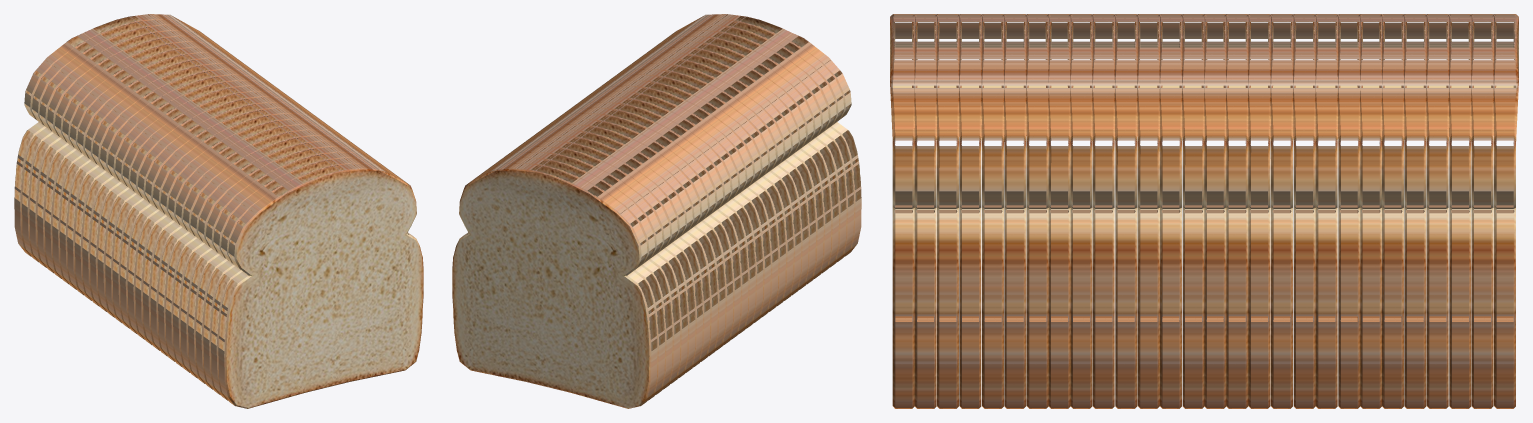
The model's file is loaf.fbx.
3 renders of one model, left to right at view 1: azimuth 30°, elevation 25°; view 2: azimuth 150°, elevation 25°; view 3: azimuth 270°, elevation 25°, orthographic. The views are drawn at different scales.
Visible parts, largest first — view 1: breadSlice24, breadSlice25, breadSlice6, breadSlice18, breadSlice13, breadSlice1, breadSlice16, breadSlice14, breadSlice7, breadSlice10, breadSlice17, breadSlice27 (+16 smaller); view 2: breadSlice1, breadSlice24, breadSlice8, breadSlice15, breadSlice28, breadSlice7, breadSlice14, breadSlice16, breadSlice4, breadSlice19, breadSlice20, breadSlice21 (+16 smaller); view 3: breadSlice24, breadSlice16, breadSlice18, breadSlice21, breadSlice3, breadSlice12, breadSlice23, breadSlice2, breadSlice4, breadSlice15, breadSlice9, breadSlice22 (+16 smaller).
Part boxes in pixels (x1=…): breadSlice24: x1=218, y1=163, x2=423, y2=408; breadSlice25: x1=211, y1=158, x2=408, y2=400; breadSlice6: x1=52, y1=42, x2=243, y2=284; breadSlice18: x1=158, y1=119, x2=349, y2=361; breadSlice13: x1=105, y1=80, x2=295, y2=322; breadSlice1: x1=14, y1=14, x2=205, y2=256; breadSlice16: x1=165, y1=124, x2=357, y2=367; breadSlice14: x1=112, y1=86, x2=303, y2=328; breadSlice7: x1=59, y1=47, x2=250, y2=289; breadSlice10: x1=82, y1=64, x2=274, y2=306; breadSlice17: x1=188, y1=141, x2=380, y2=383; breadSlice27: x1=135, y1=102, x2=326, y2=345; breadSlice1: x1=452, y1=163, x2=657, y2=408; breadSlice24: x1=670, y1=14, x2=861, y2=256; breadSlice8: x1=518, y1=124, x2=710, y2=367; breadSlice15: x1=572, y1=86, x2=763, y2=328; breadSlice28: x1=625, y1=47, x2=816, y2=289; breadSlice7: x1=511, y1=130, x2=702, y2=372; breadSlice14: x1=565, y1=91, x2=755, y2=333; breadSlice16: x1=617, y1=52, x2=808, y2=295; breadSlice4: x1=488, y1=146, x2=680, y2=389; breadSlice19: x1=632, y1=41, x2=823, y2=284; breadSlice20: x1=655, y1=25, x2=846, y2=267; breadSlice21: x1=647, y1=30, x2=838, y2=273; breadSlice24: x1=890, y1=14, x2=917, y2=408; breadSlice16: x1=1045, y1=14, x2=1073, y2=408; breadSlice18: x1=1067, y1=14, x2=1095, y2=408; breadSlice21: x1=956, y1=14, x2=984, y2=408; breadSlice3: x1=1446, y1=14, x2=1474, y2=408; breadSlice12: x1=1245, y1=14, x2=1273, y2=408; breadSlice23: x1=1112, y1=14, x2=1139, y2=408; breadSlice2: x1=1468, y1=14, x2=1496, y2=408; breadSlice4: x1=1424, y1=14, x2=1451, y2=408; breadSlice15: x1=1180, y1=14, x2=1207, y2=408; breadSlice9: x1=1313, y1=14, x2=1340, y2=408; breadSlice22: x1=1090, y1=14, x2=1117, y2=408.
Size of the model in its own units: 11.24 by 11.66 by 20.82.
